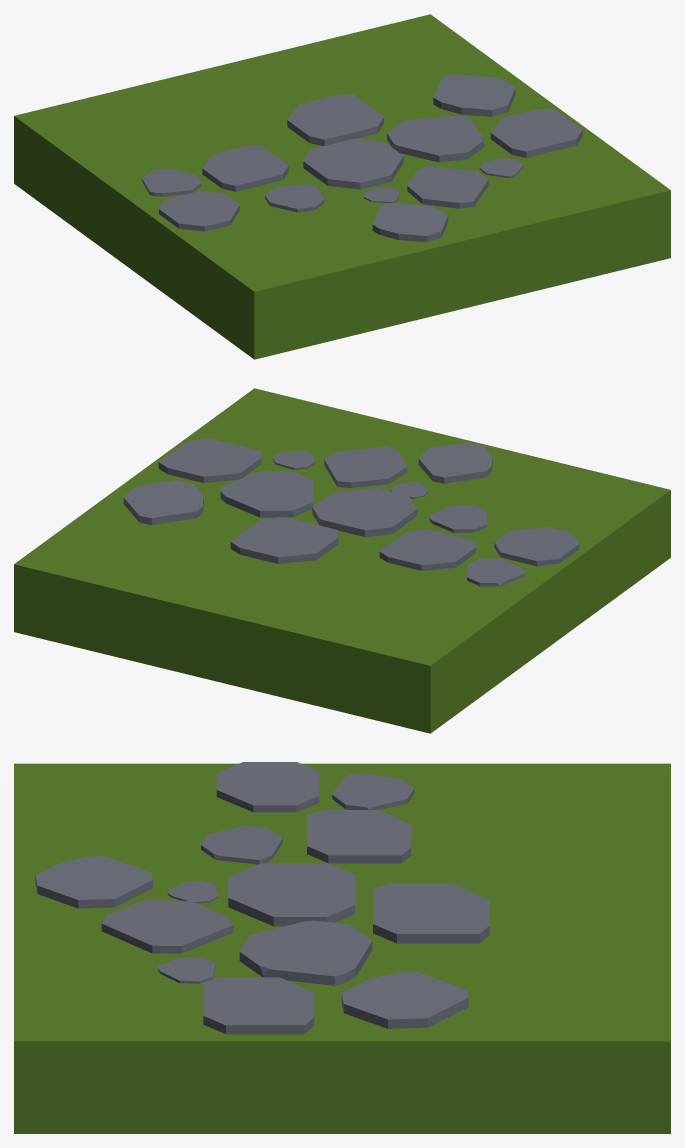
Rendered from RockT.fbx.
The picture shows the model from 3 angles, top to bottom: view 1: azimuth 30°, elevation 25°; view 2: azimuth 150°, elevation 25°; view 3: azimuth 270°, elevation 25°; orthographic projection. The views are drawn at different scales.
Visible parts, largest first — view 1: RockT; view 2: RockT; view 3: RockT.
Boxes of the visible parts, x1,y1,x2,y2 form: RockT: (14, 14, 670, 359); RockT: (14, 388, 670, 733); RockT: (14, 762, 670, 1133).
Bounding box in the file's own units: 450 × 77.12 × 450.
